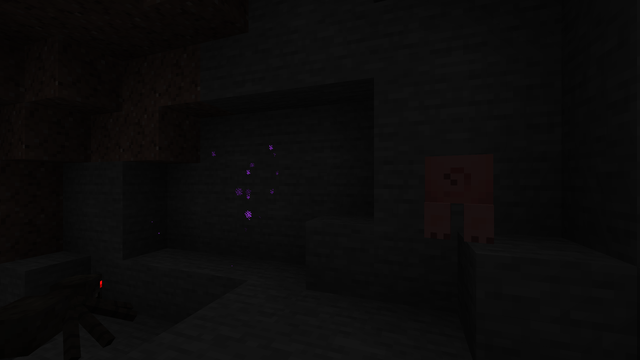araignees: (3, 266, 130, 358)
cochons: (417, 151, 515, 242)
